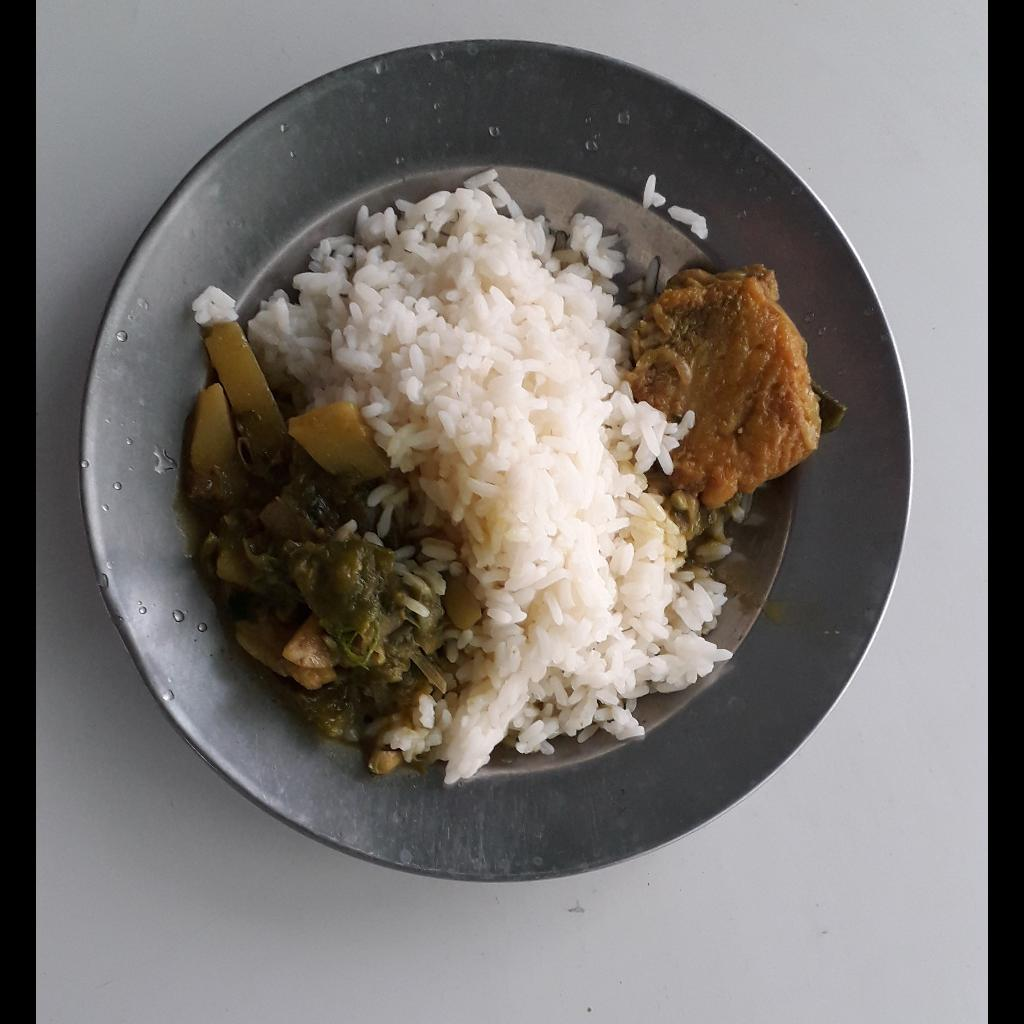fish: (633, 264, 847, 511)
potato: (185, 314, 388, 501)
rice: (244, 157, 728, 786)
shim: (210, 447, 482, 745)
